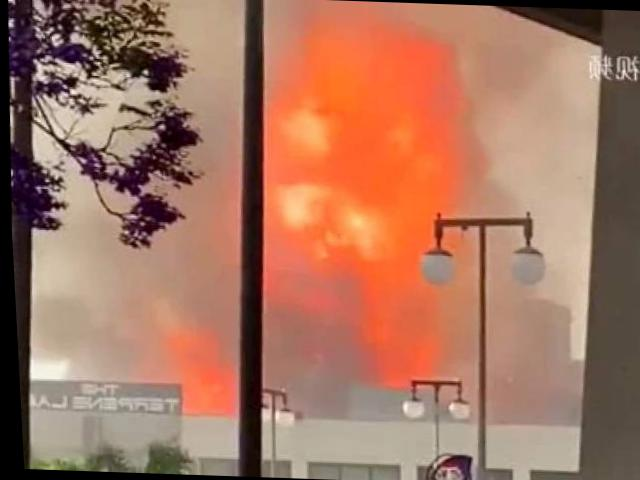fire: (250, 18, 468, 392)
